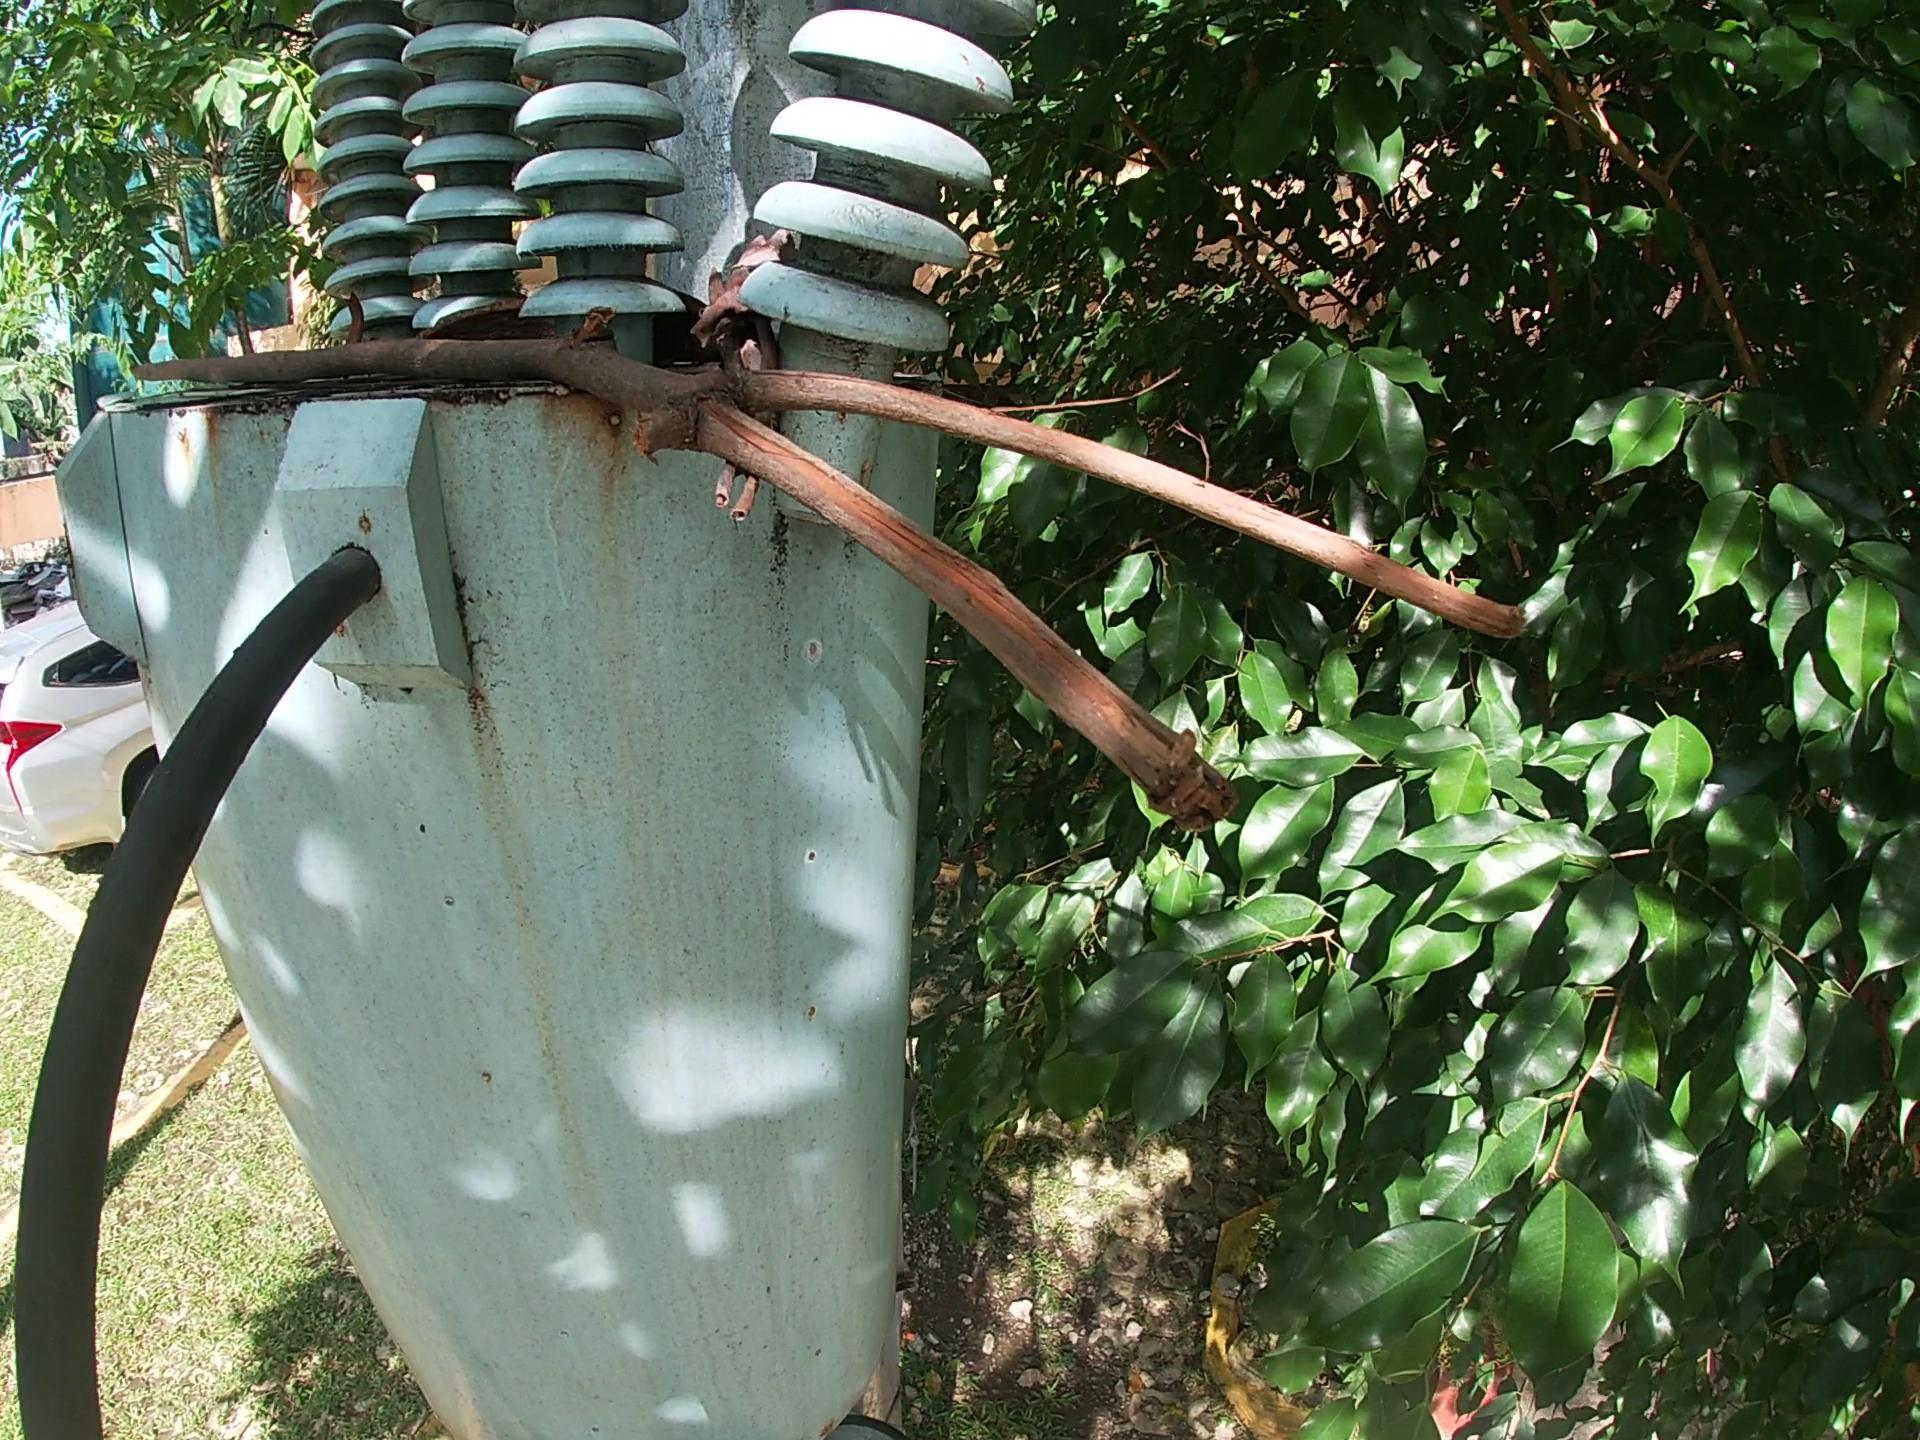mahogany fruit: (425, 278, 708, 368), (336, 292, 369, 346)
tree branch: (110, 293, 1536, 847), (683, 228, 797, 532)
